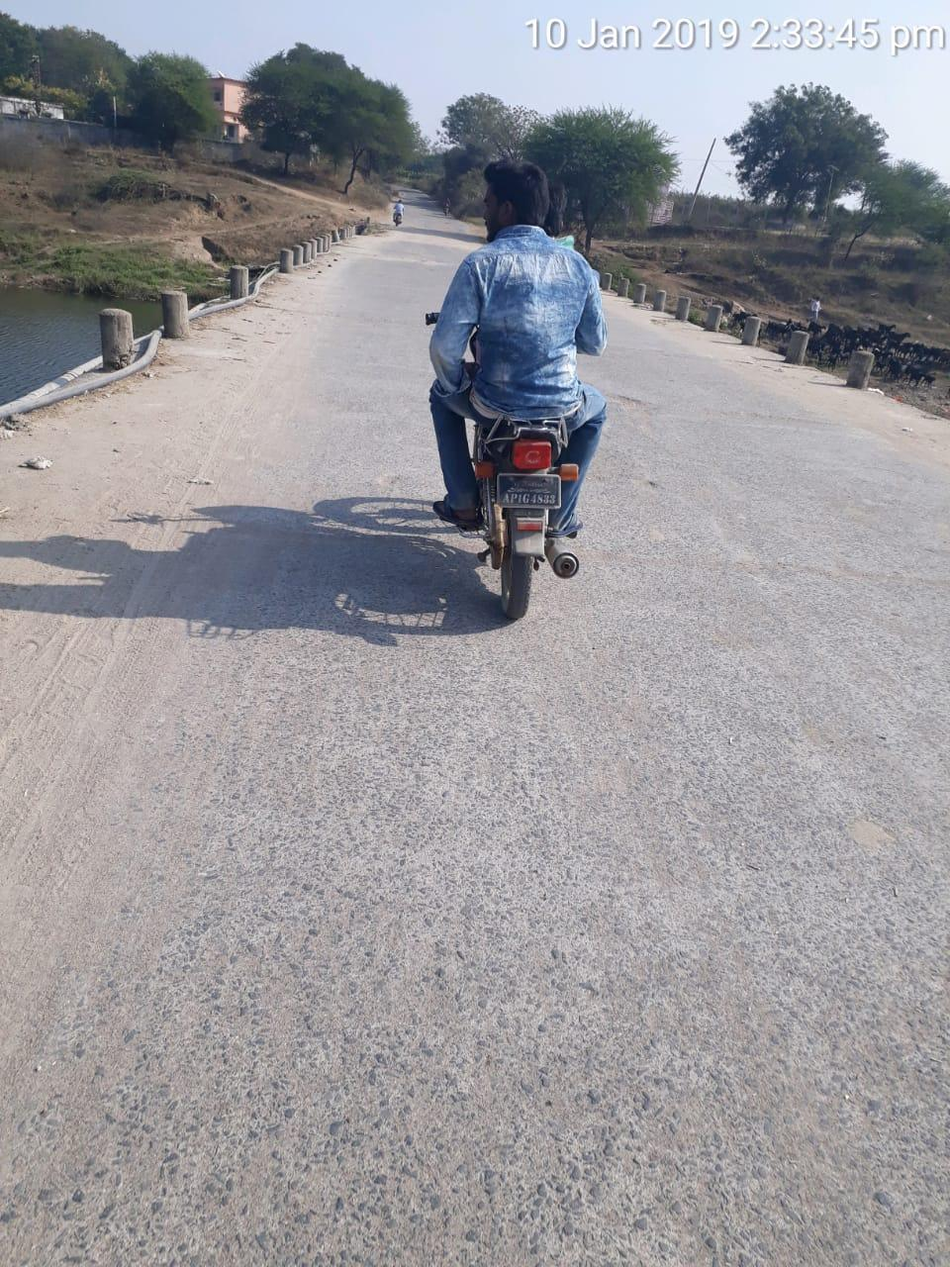plate: (498, 465, 575, 516)
